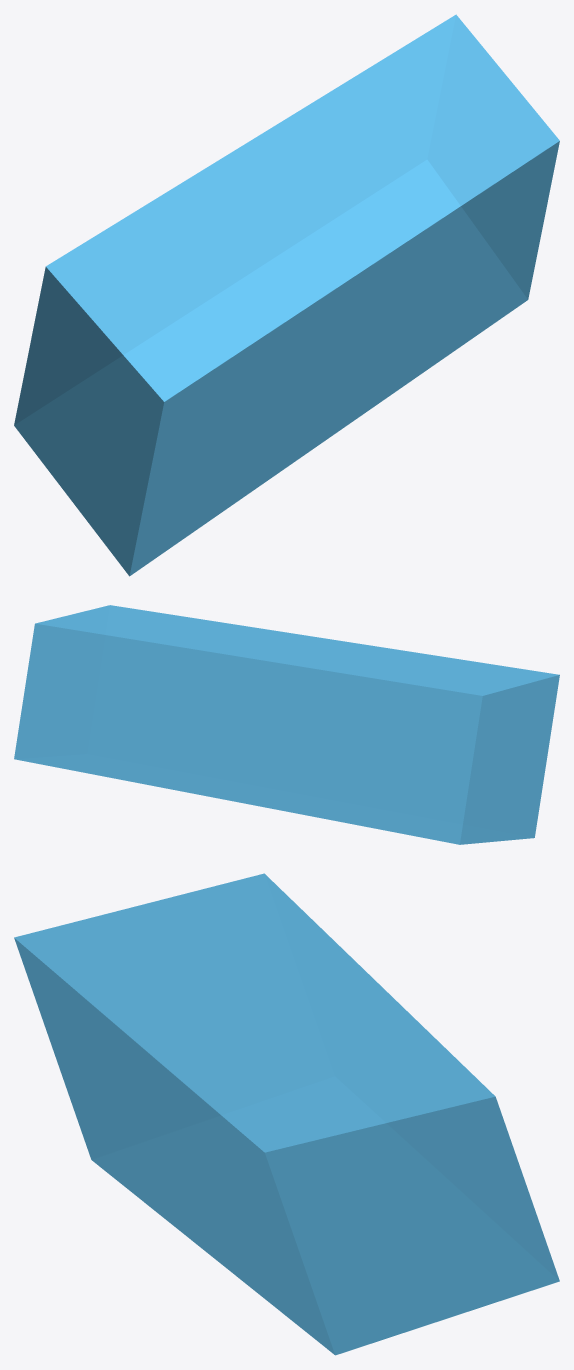
The model's file is Event_421364160_HErechit_2.fbx.
3 views of the same model, one above another, from view 1: azimuth 30°, elevation 25°; view 2: azimuth 150°, elevation 25°; view 3: azimuth 270°, elevation 25° (orthographic). The views are drawn at different scales.
Parts seen in each view (by area): view 1: Model; view 2: Model; view 3: Model.
Boxes of the visible parts, left/top/right/bottom form: Model: left=14, top=14, right=559, bottom=576; Model: left=14, top=605, right=559, bottom=844; Model: left=14, top=873, right=559, bottom=1355.
Size of the model in its own units: 0.9932 by 0.5629 by 0.8207.
